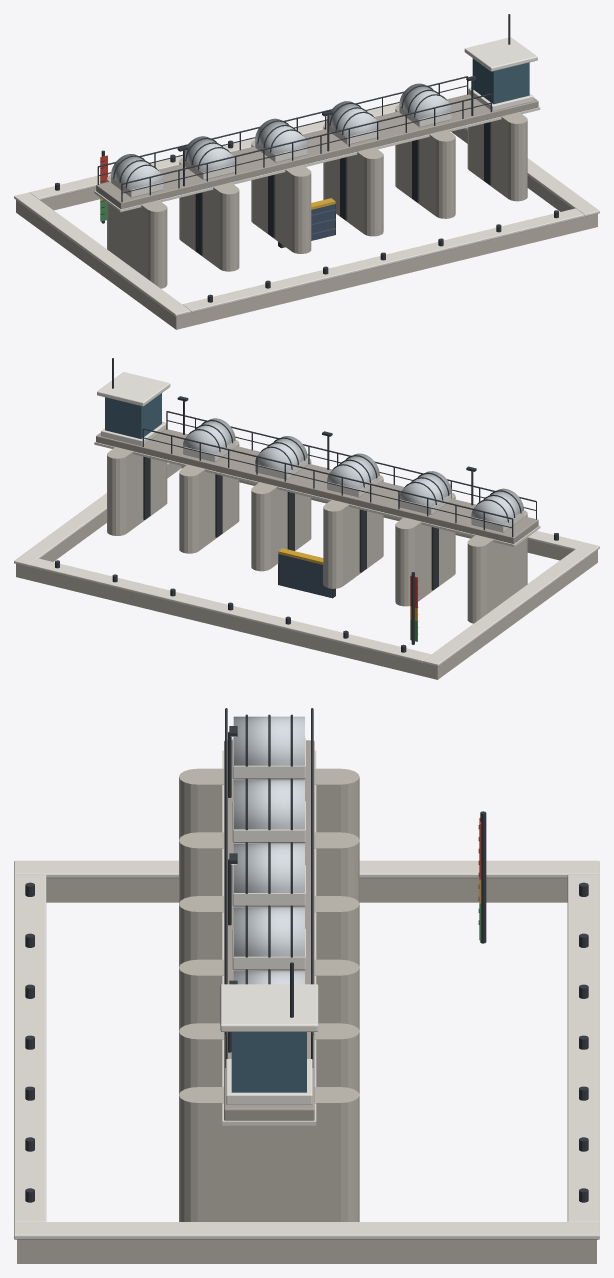
The model's file is barrier.glb.
3 renders of one model, top to bottom at view 1: azimuth 30°, elevation 25°; view 2: azimuth 150°, elevation 25°; view 3: azimuth 270°, elevation 25°, orthographic. The views are drawn at different scales.
Parts seen in each view (by area): view 1: barrier-body, gate-0; view 2: barrier-body, gate-0; view 3: barrier-body.
Part boxes in pixels (x1,y1,x2,y2): barrier-body: (14, 14, 599, 329); gate-0: (278, 198, 335, 248); barrier-body: (14, 358, 599, 679); gate-0: (278, 548, 335, 598); barrier-body: (14, 708, 599, 1263).
Bounding box in the file's own units: 23.56 × 9.58 × 15.56.
